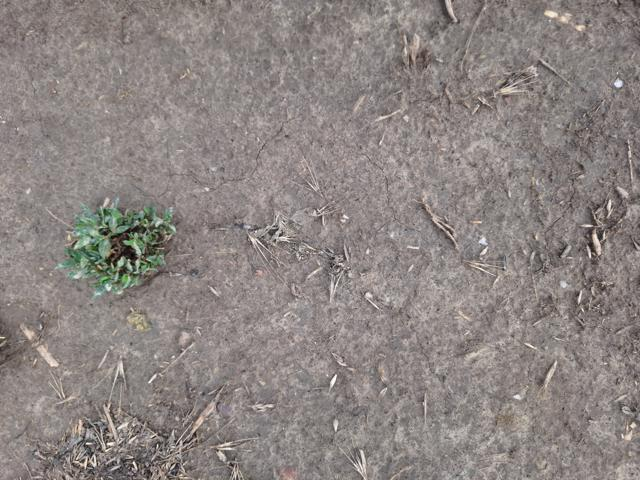bad weed: (62, 193, 182, 301)
